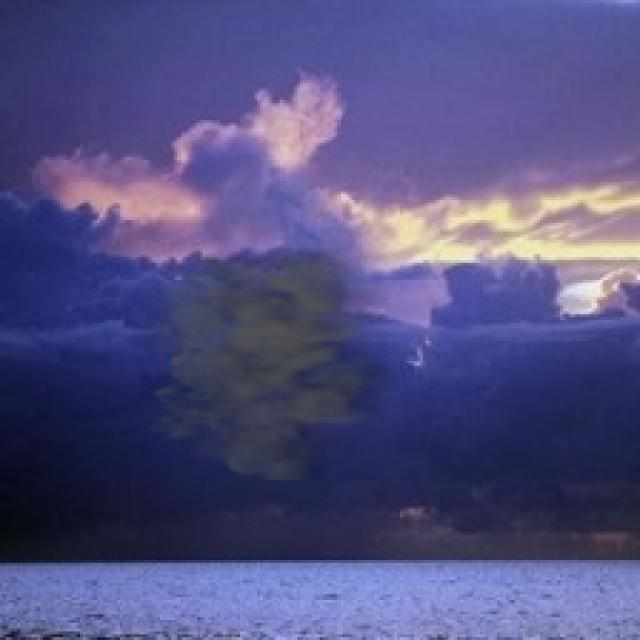smoke: (120, 234, 389, 480)
